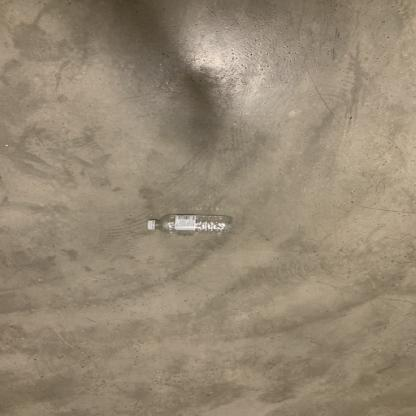trash: (146, 213, 233, 238)
